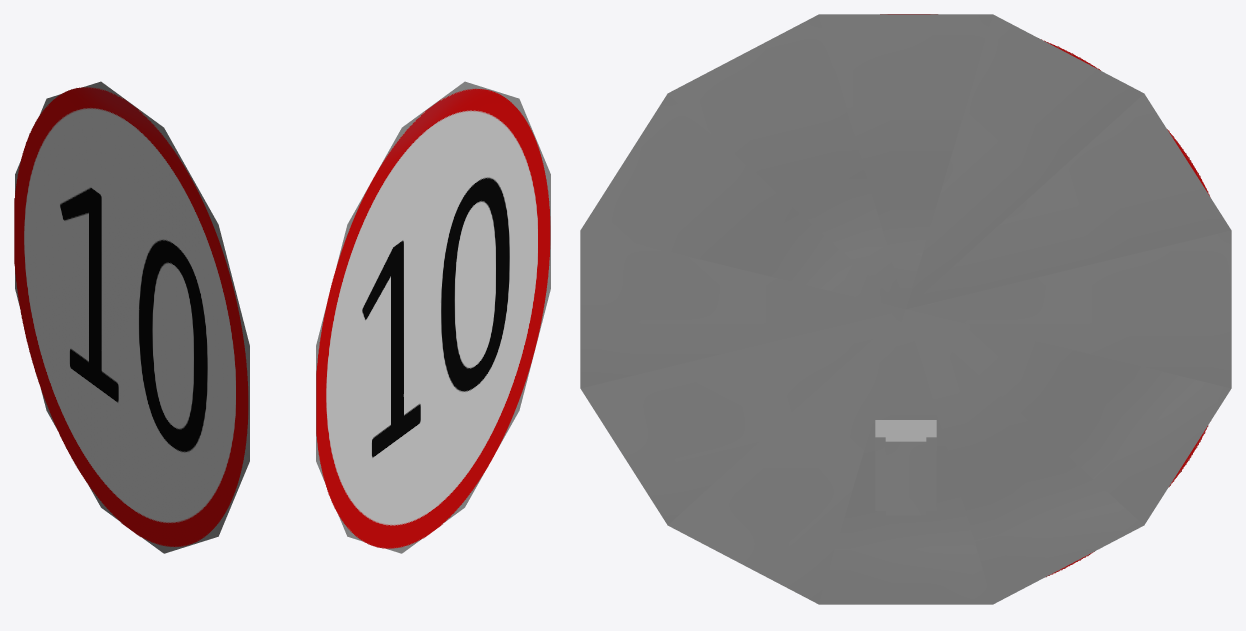
File: speed_10_large.obj
The picture shows the model from 3 angles, left to right: view 1: azimuth 30°, elevation 25°; view 2: azimuth 150°, elevation 25°; view 3: azimuth 270°, elevation 25°; orthographic projection. The views are drawn at different scales.
Parts seen in each view (by area): view 1: cube, circle; view 2: cube, circle; view 3: circle, cube.
Boxes of the visible parts, <box> form: cube: <box>14,87,248,547</box>; circle: <box>15,81,249,553</box>; cube: <box>316,88,550,548</box>; circle: <box>316,81,550,553</box>; circle: <box>580,14,1231,604</box>; cube: <box>875,14,1209,577</box>.
Size of the model in its own units: 0.0797 by 1 by 1.
2 materials, 2 textured.
